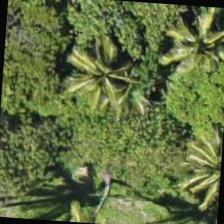Kelapa_Sawit: (59, 36, 155, 132), (150, 3, 223, 97)
